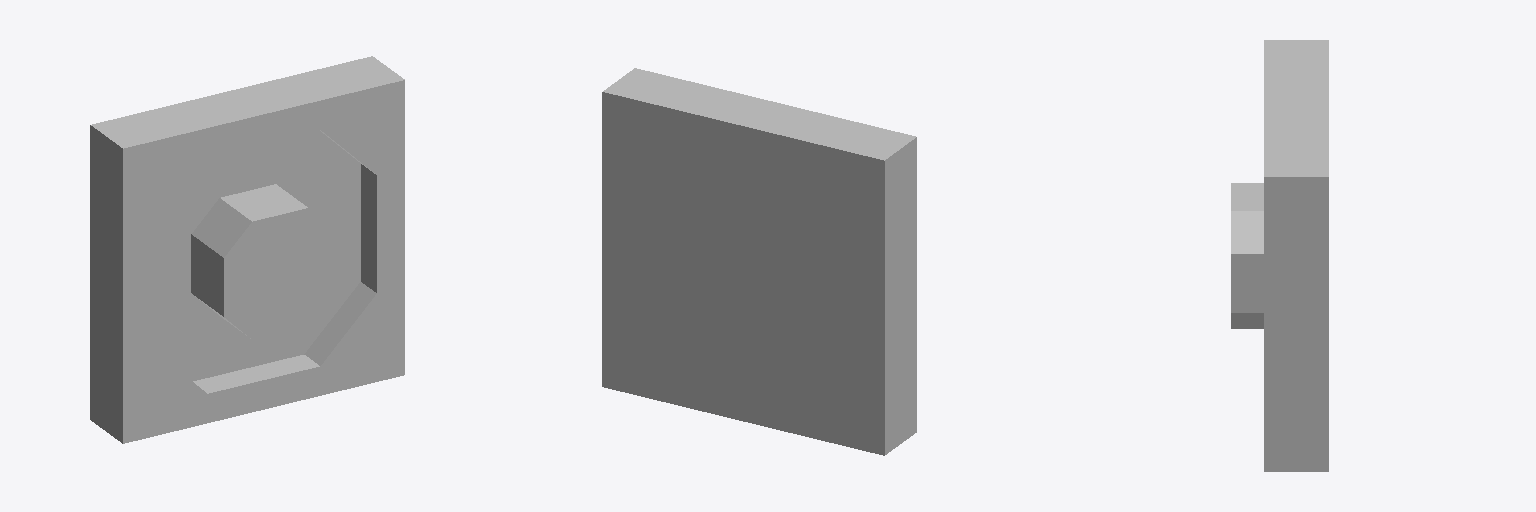
Rendered from Tele.obj.
3 renders of one model, left to right at view 1: azimuth 30°, elevation 25°; view 2: azimuth 150°, elevation 25°; view 3: azimuth 270°, elevation 25°, orthographic.
Parts seen in each view (by area): view 1: Body1; view 2: Body1; view 3: Body1.
Part boxes in pixels (bbox=[...]): Body1: bbox=[90, 56, 404, 443]; Body1: bbox=[602, 68, 916, 455]; Body1: bbox=[1231, 40, 1328, 471].
Size of the model in its own units: 50 by 50 by 15.